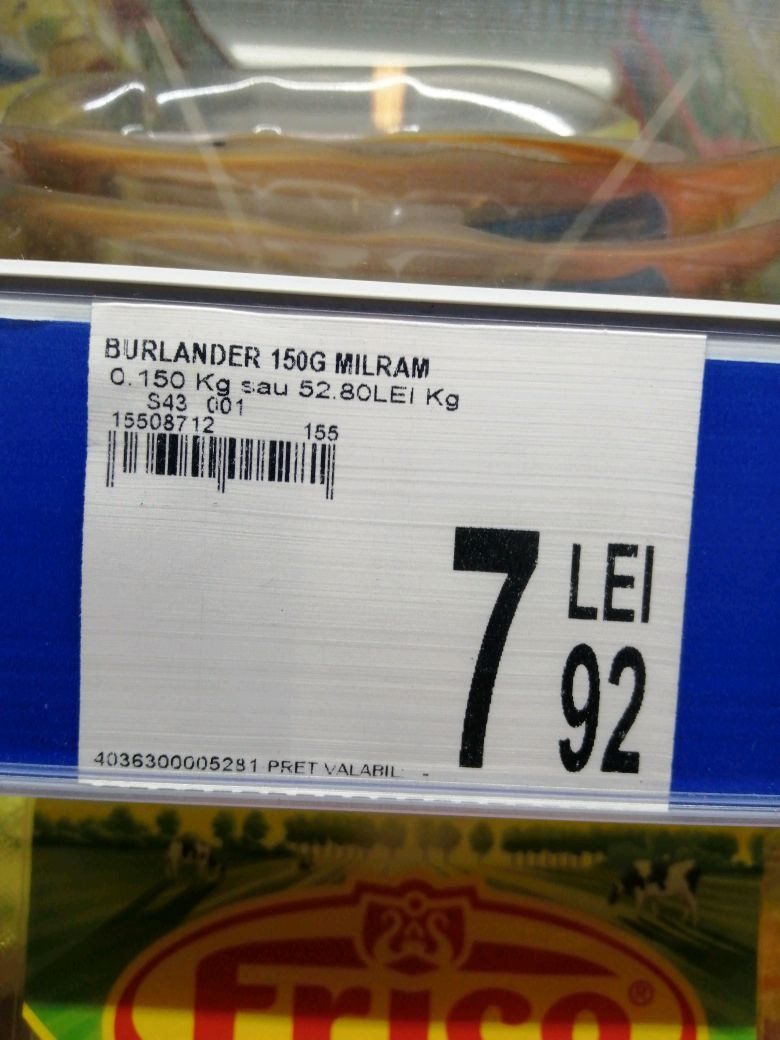price_bani: (556, 634, 654, 779)
price_lei: (419, 518, 549, 781)
price_tag: (73, 293, 720, 819)
product_id: (85, 745, 265, 789)
product_name: (93, 329, 446, 386)
